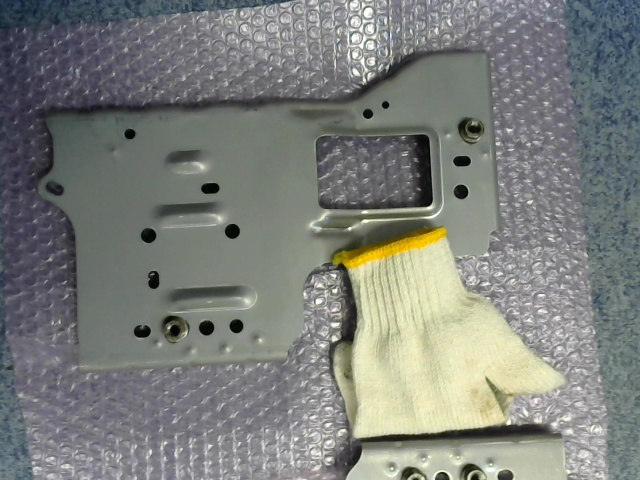dog: (161, 315, 188, 342), (458, 117, 485, 143)
